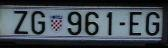-: (119, 22, 125, 26)
1: (106, 12, 112, 35)
6: (85, 12, 99, 35)
9: (67, 11, 81, 35)
E: (129, 12, 141, 36)
G: (31, 11, 45, 34), (146, 12, 159, 36)
Z: (13, 11, 28, 34)
